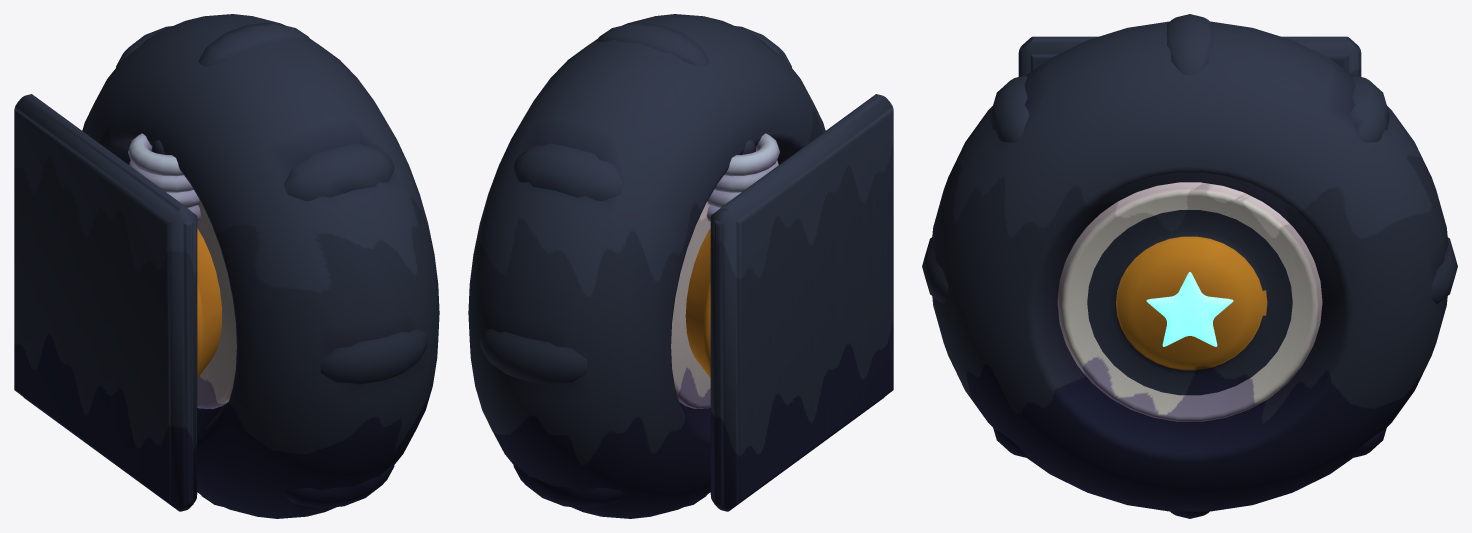
The model's file is R4M_WheelM_Side_Offroad.glb.
3 renders of one model, left to right at view 1: azimuth 30°, elevation 25°; view 2: azimuth 150°, elevation 25°; view 3: azimuth 270°, elevation 25°, orthographic.
Parts seen in each view (by area): view 1: R4M_WheelM_Side_Offroad_Rotor, R4M_WheelM_Side_Offroad_Mount, R4M_WheelM_Side_Offroad_Coil; view 2: R4M_WheelM_Side_Offroad_Rotor, R4M_WheelM_Side_Offroad_Mount, R4M_WheelM_Side_Offroad_Coil; view 3: R4M_WheelM_Side_Offroad_Rotor, R4M_WheelM_Side_Offroad_Mount.
Boxes of the visible parts, x1=… form: R4M_WheelM_Side_Offroad_Rotor: x1=82, y1=14, x2=439, y2=518; R4M_WheelM_Side_Offroad_Mount: x1=14, y1=94, x2=221, y2=511; R4M_WheelM_Side_Offroad_Coil: x1=128, y1=133, x2=200, y2=221; R4M_WheelM_Side_Offroad_Rotor: x1=468, y1=14, x2=825, y2=518; R4M_WheelM_Side_Offroad_Mount: x1=685, y1=94, x2=893, y2=511; R4M_WheelM_Side_Offroad_Coil: x1=707, y1=133, x2=779, y2=221; R4M_WheelM_Side_Offroad_Rotor: x1=922, y1=14, x2=1457, y2=518; R4M_WheelM_Side_Offroad_Mount: x1=1018, y1=36, x2=1361, y2=76.
Size of the model in its own units: 0.451 by 0.782 by 0.782.
5 materials, 4 textured.
